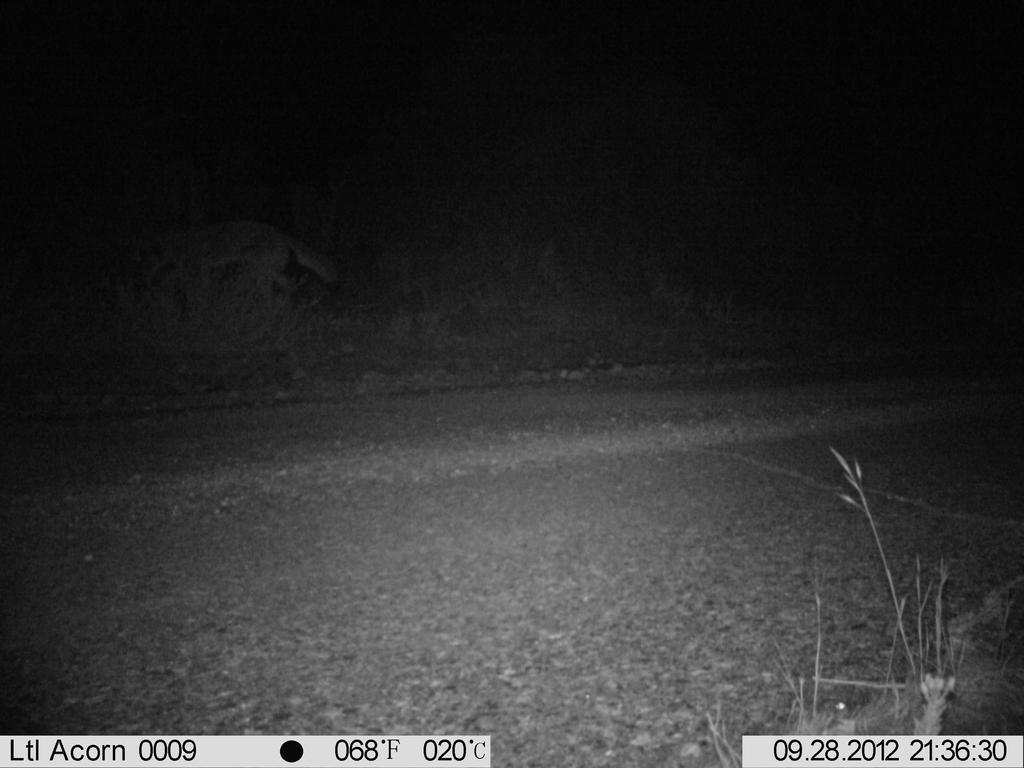coyote: (149, 214, 343, 316)
